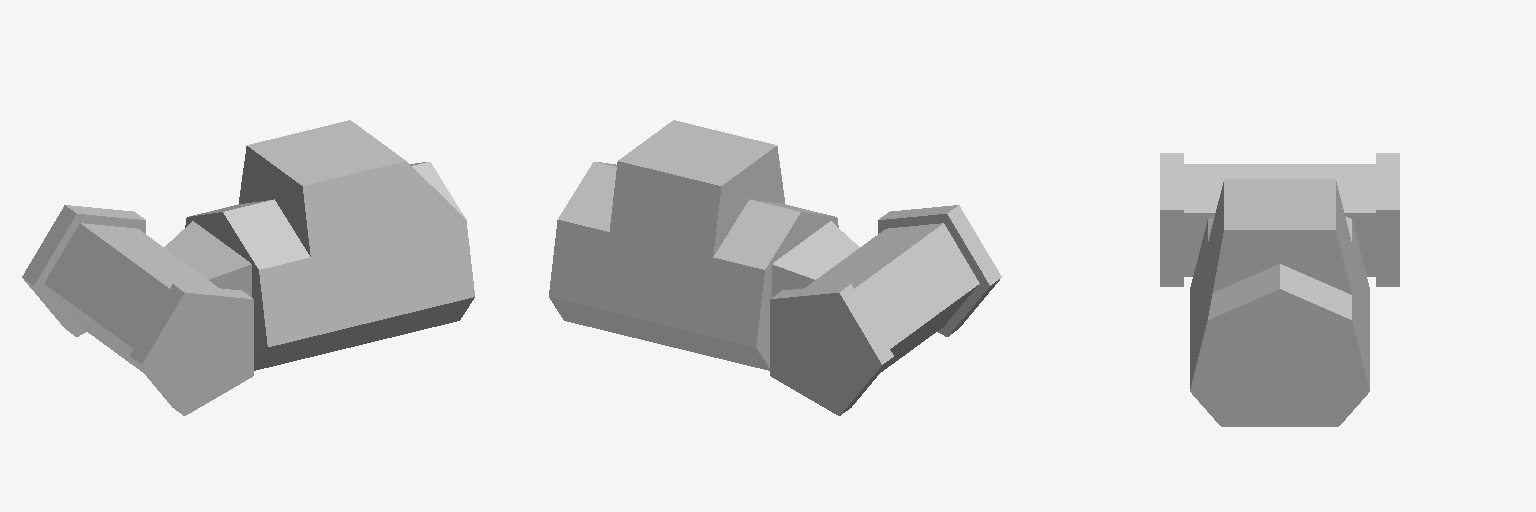
Rendered from Pump.obj.
3 views of the same model, side by side, from view 1: azimuth 30°, elevation 25°; view 2: azimuth 150°, elevation 25°; view 3: azimuth 270°, elevation 25° (orthographic).
Visible parts, largest first — view 1: instance_4; view 2: instance_4; view 3: instance_4.
Part boxes in pixels (x1,y1,x2,y2): instance_4: (22, 120, 474, 415); instance_4: (549, 120, 1001, 415); instance_4: (1160, 153, 1399, 426).
Size of the model in its own units: 0.8397 by 0.3944 by 0.5002.